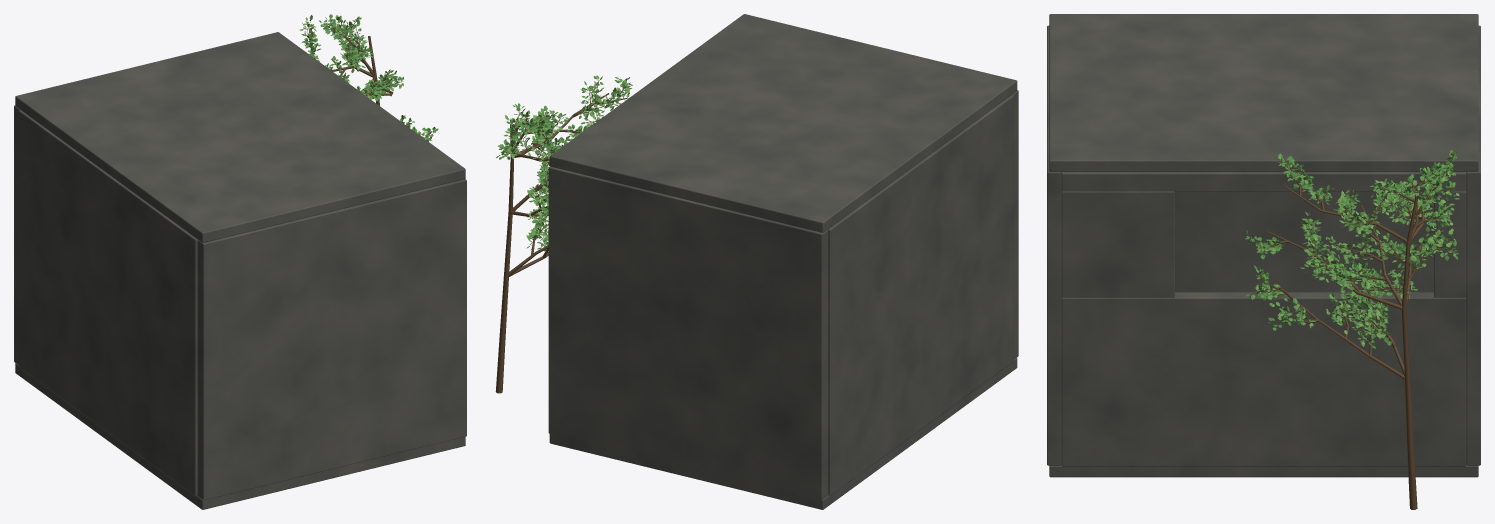
Rendered from leaflight-study.glb.
The picture shows the model from 3 angles, left to right: view 1: azimuth 30°, elevation 25°; view 2: azimuth 150°, elevation 25°; view 3: azimuth 270°, elevation 25°; orthographic projection. The views are drawn at different scales.
Parts seen in each view (by area): view 1: RoomSurface, STW_Camphor_Leaves_1, STW_Camphor_Leaves_0, STW_Camphor_Leaves_2; view 2: RoomSurface, STW_Camphor_Leaves_1, STW_Camphor_Leaves_0, STW_Camphor_Trunk, STW_Camphor_Leaves_2, STW_Camphor_Primary; view 3: RoomSurface, STW_Camphor_Leaves_1, STW_Camphor_Leaves_0, STW_Camphor_Leaves_2, STW_Camphor_Primary, STW_Camphor_Trunk, STW_Camphor_Secondary, STW_Camphor_Petioles, STW_Camphor_Twigs.
Boxes of the visible parts, x1,y1,x2,y2 form: RoomSurface: (14, 32, 466, 509); STW_Camphor_Leaves_1: (299, 14, 438, 140); STW_Camphor_Leaves_0: (302, 17, 435, 141); STW_Camphor_Leaves_2: (302, 15, 431, 139); RoomSurface: (548, 14, 1018, 509); STW_Camphor_Leaves_1: (499, 76, 630, 251); STW_Camphor_Leaves_0: (498, 76, 632, 249); STW_Camphor_Trunk: (495, 119, 513, 393); STW_Camphor_Leaves_2: (496, 75, 629, 241); STW_Camphor_Primary: (508, 93, 608, 276); RoomSurface: (1047, 14, 1480, 477); STW_Camphor_Leaves_1: (1245, 153, 1459, 349); STW_Camphor_Leaves_0: (1249, 152, 1458, 348); STW_Camphor_Leaves_2: (1250, 150, 1459, 346); STW_Camphor_Primary: (1267, 182, 1429, 380); STW_Camphor_Trunk: (1401, 196, 1418, 509); STW_Camphor_Secondary: (1266, 171, 1442, 355); STW_Camphor_Petioles: (1249, 156, 1455, 345); STW_Camphor_Twigs: (1251, 161, 1452, 342).
Bounding box in the file's own units: 11.25 × 9.25 × 10.72.
Materials: 5 (1 with a texture image).
